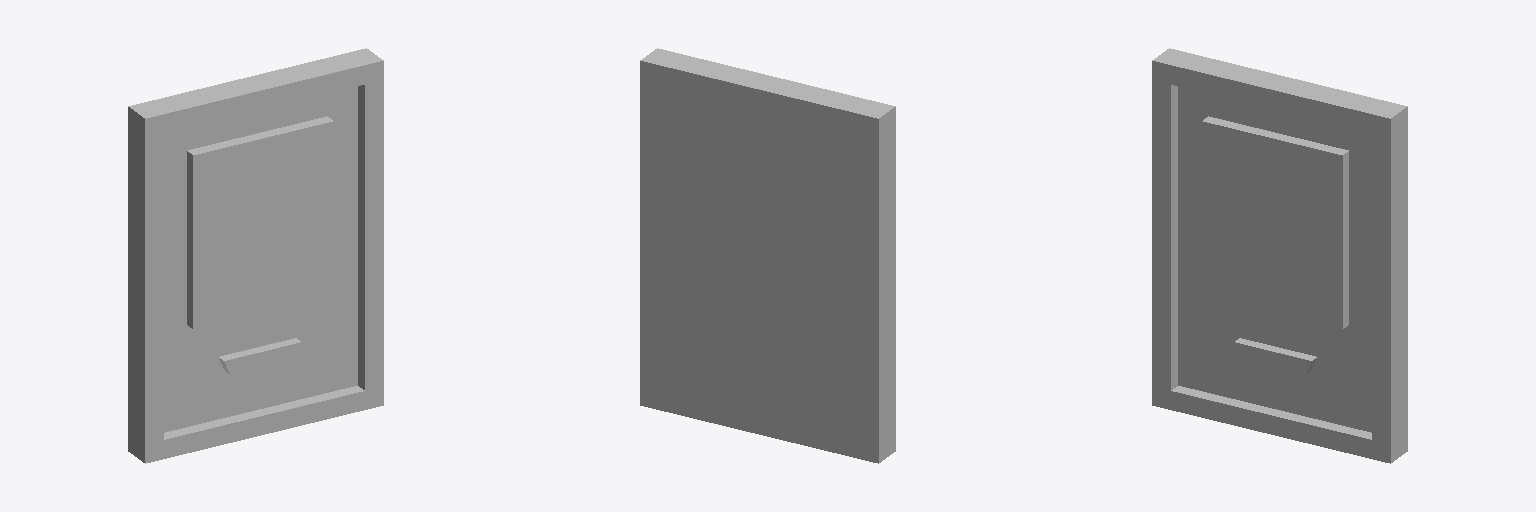
The model's file is Painting_Photo.obj.
The picture shows the model from 3 angles: view 1: azimuth 30°, elevation 25°; view 2: azimuth 150°, elevation 25°; view 3: azimuth 330°, elevation 25°; orthographic projection.
Visible parts, largest first — view 1: Painting_Photo; view 2: Painting_Photo; view 3: Painting_Photo.
Part boxes in pixels (x1,y1,x2,y2): Painting_Photo: (128,48,383,463); Painting_Photo: (640,48,895,463); Painting_Photo: (1152,48,1407,463).
Size of the model in its own units: 0.2976 by 0.4113 by 0.0367.